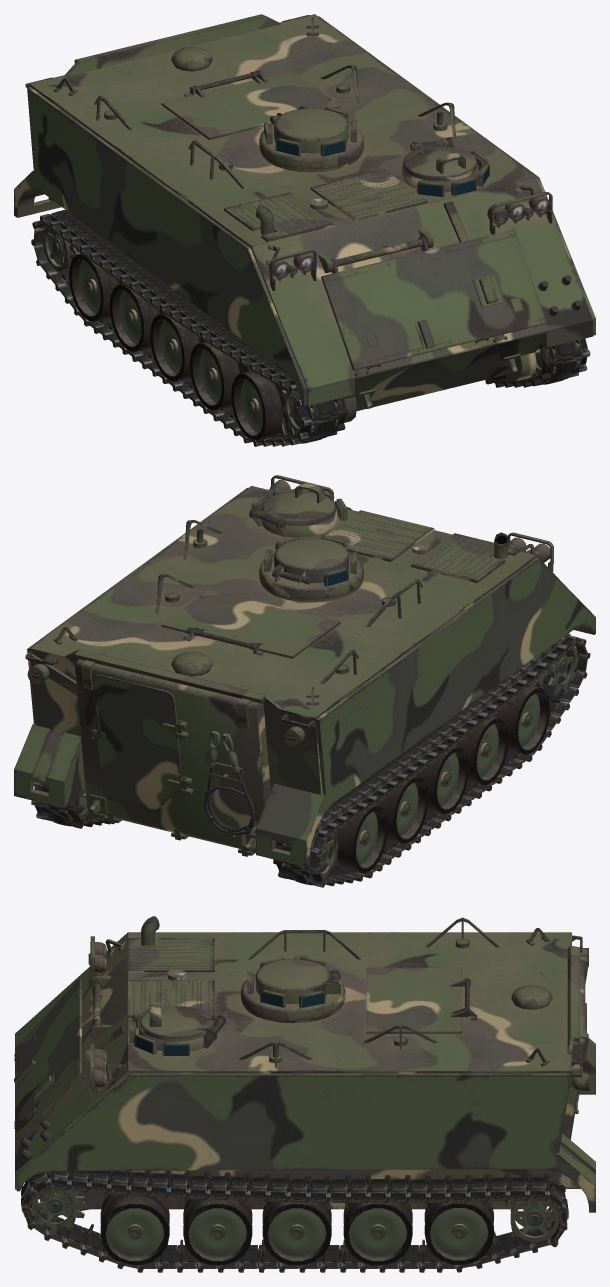
File: m113_apc.glb
3 views of the same model, one above another, from view 1: azimuth 30°, elevation 25°; view 2: azimuth 150°, elevation 25°; view 3: azimuth 270°, elevation 25° (orthographic).
Parts seen in each view (by area): view 1: Object_6, Object_4, Object_3, Object_5; view 2: Object_6, Object_4, Object_3, Object_5; view 3: Object_6, Object_4, Object_5, Object_3.
Part boxes in pixels (box(x1,y1,x2,y2)): Object_6: box(14, 14, 595, 422); Object_4: box(53, 17, 581, 408); Object_3: box(31, 209, 590, 446); Object_5: box(42, 225, 579, 439); Object_6: box(14, 486, 595, 866); Object_4: box(31, 475, 553, 855); Object_3: box(31, 633, 590, 887); Object_5: box(79, 637, 577, 877); Object_6: box(15, 932, 595, 1212); Object_4: box(14, 916, 588, 1159); Object_5: box(30, 1177, 559, 1265); Object_3: box(21, 1170, 568, 1272).
Bounding box in the file's own units: 1609 × 1213 × 2777.
Materials: 1 (1 with a texture image).
